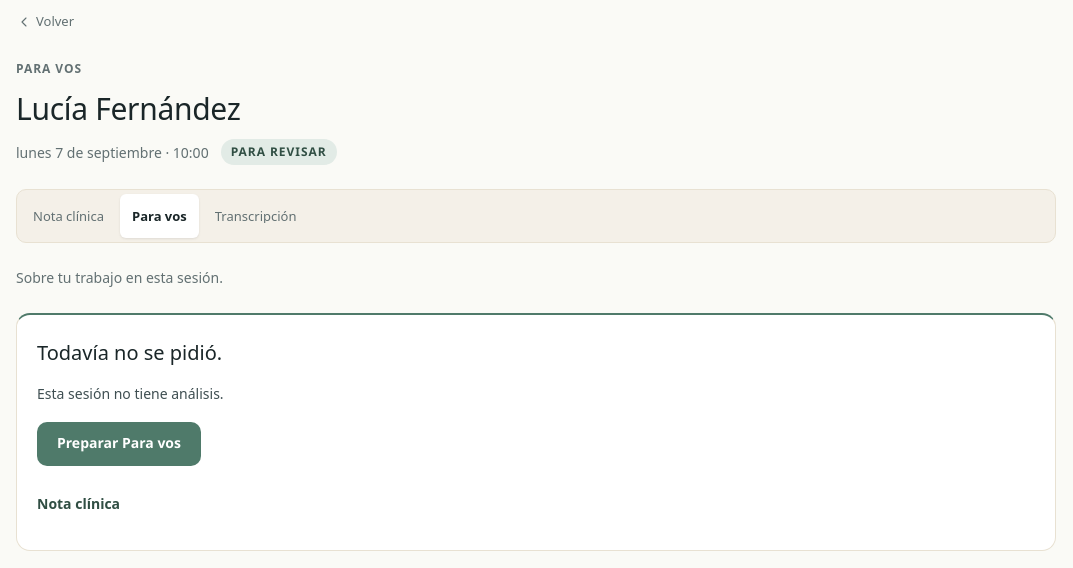
it: Para vos: estados y recuperación › si pierde la respuesta, reconoce el pedido ya creado sin afirmar un fallo
This screenshot has width=1073, height=568.
Click the button "Preparar Para vos": (119, 444) [37,422,201,466]
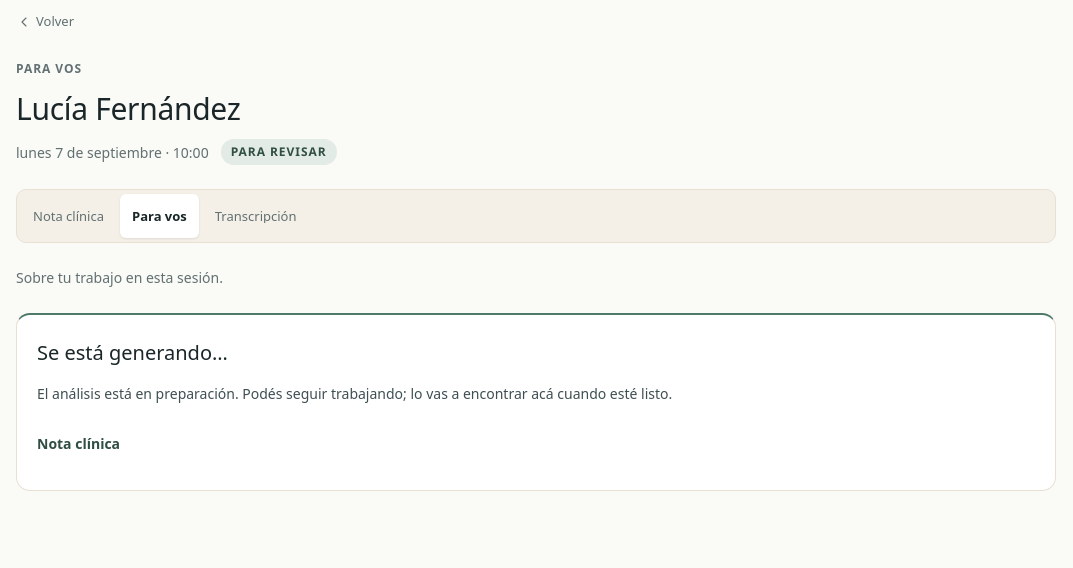
Result: the text "Se está generando…" is shown at [37,339,228,367]
